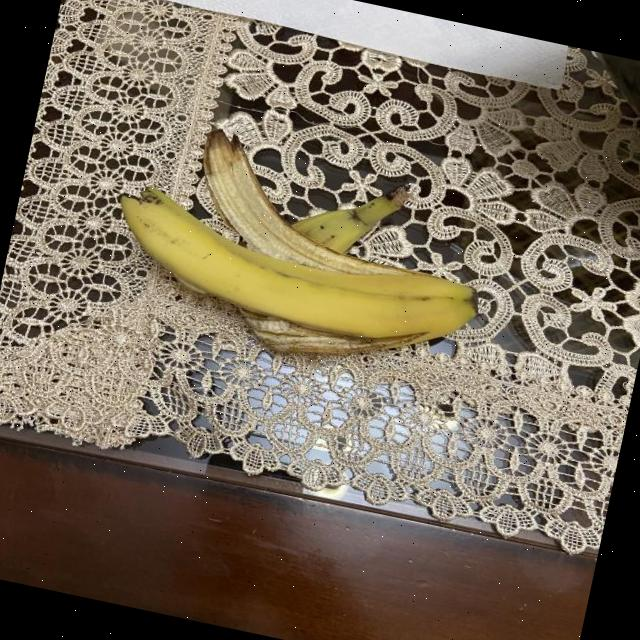banana-peel: (97, 177, 488, 364), (182, 123, 420, 284)
